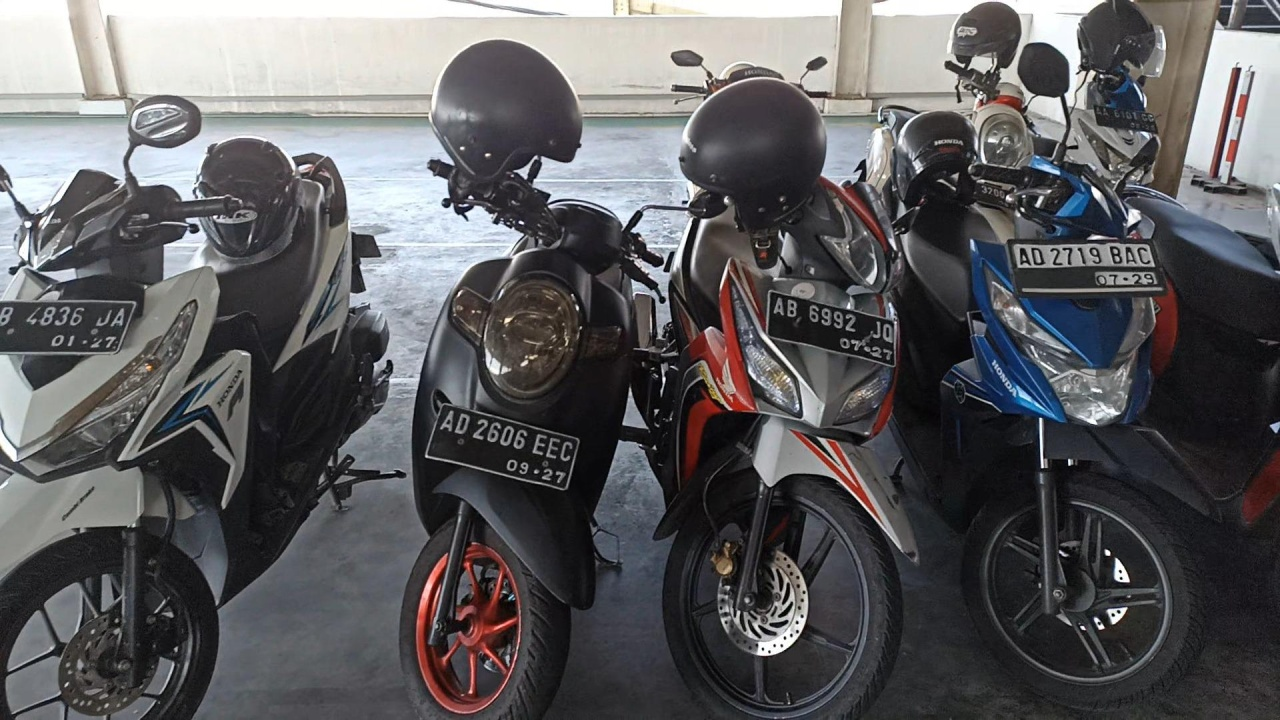plate: (425, 403, 580, 490), (767, 291, 896, 367), (1008, 241, 1166, 295)
